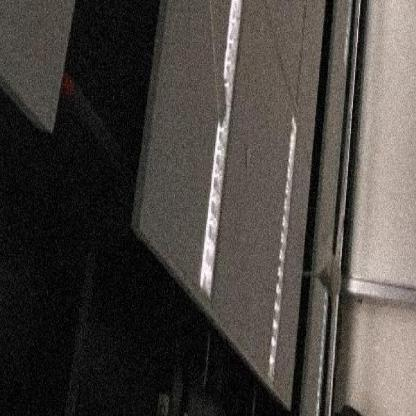light_on: (192, 0, 254, 288), (260, 97, 301, 405), (311, 282, 332, 415)
